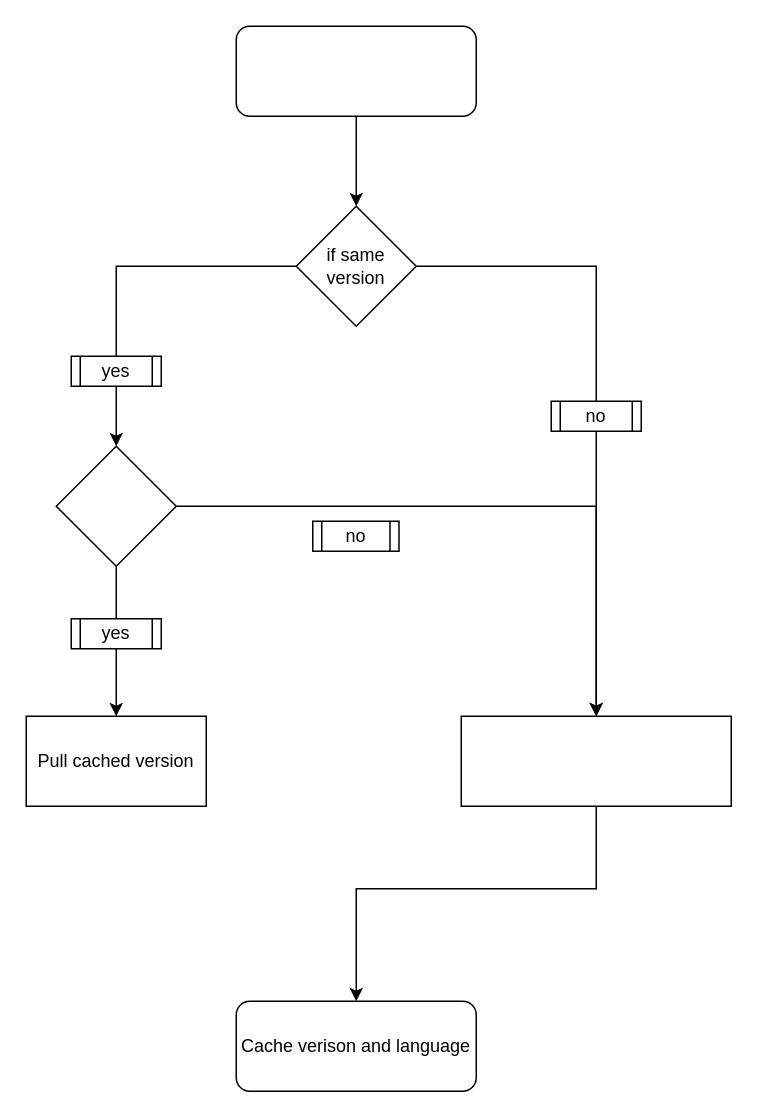
This 758x1118 diagram has some shape labels left out. Here are the shapes that lost their labels. From the top down, the centre of each, then its label:
the point at 355,70: GET - /meta
the point at 115,505: is lang cached?
the point at 595,760: GET - /language/translations/:id
